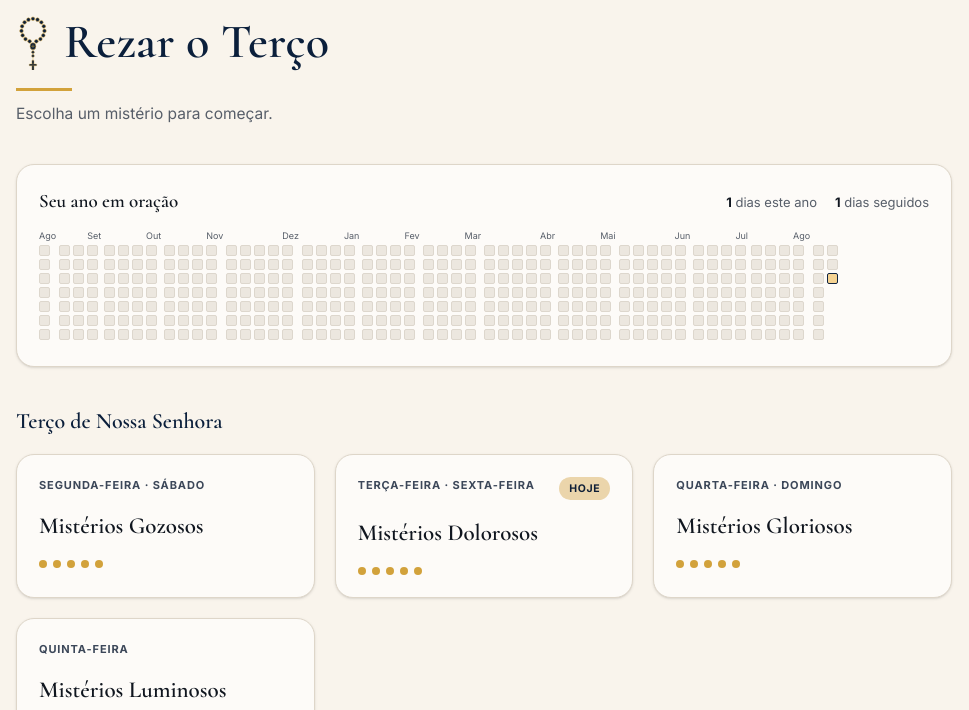
Test case: HomePage › shows the prayed names for a day with history when clicked
The image size is (969, 710).
Click the button with test id "calendar-today". click: (833, 278)
box: [827,273,838,284]
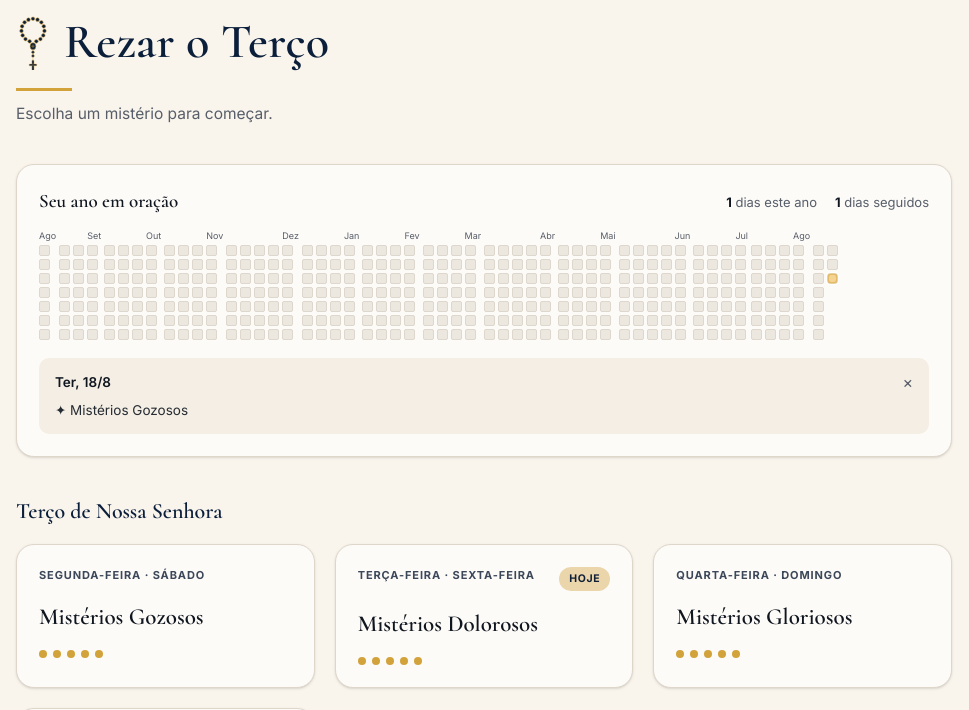
Expected: the text "✦ Mistérios Gozosos" is shown, [55,402,188,418]
